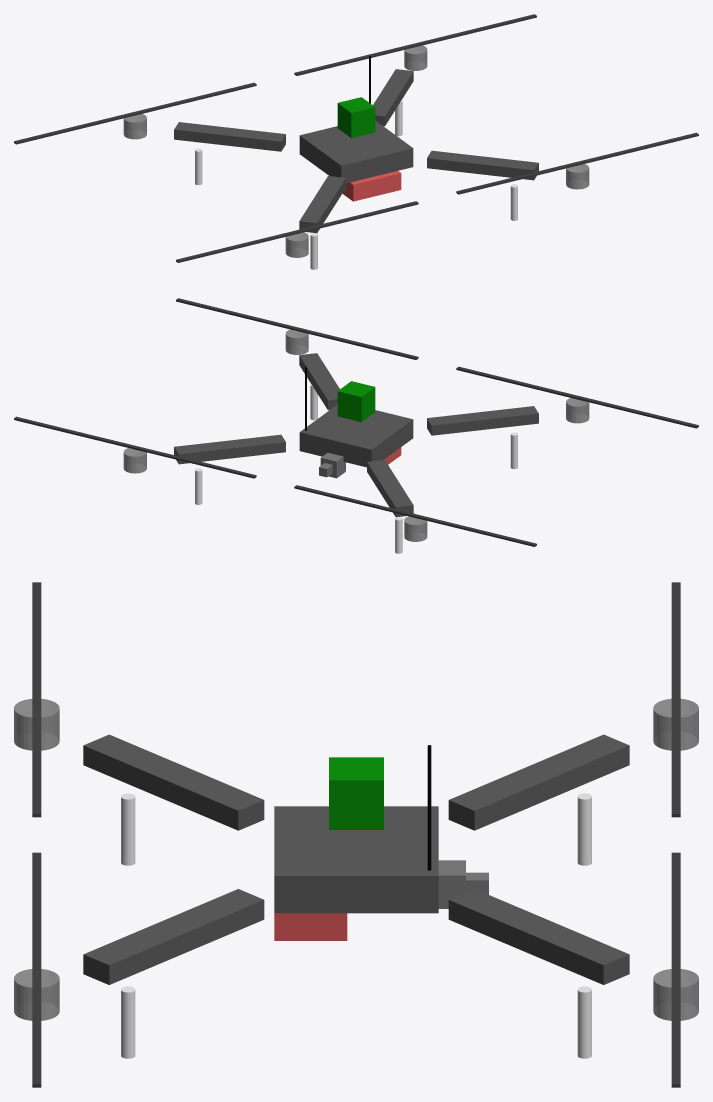
File: model_b2fce5f9-6068-4fa9-9036-326b170c6b3e.glb
3 views of the same model, one above another, from view 1: azimuth 30°, elevation 25°; view 2: azimuth 150°, elevation 25°; view 3: azimuth 270°, elevation 25° (orthographic). The views are drawn at different scales.
Visible parts, largest first — view 1: Frame_Center, Arm_2, Arm_4, Flight_Controller, Arm_3, Arm_1, Battery, Propeller_2, Propeller_3, Propeller_4, Propeller_1, Motor_1 (+3 smaller); view 2: Frame_Center, Arm_3, Arm_1, Flight_Controller, Arm_2, Arm_4, Propeller_3, Propeller_2, Propeller_4, Propeller_1, Motor_1, Motor_2 (+3 smaller); view 3: Frame_Center, Arm_1, Arm_4, Arm_2, Arm_3, Flight_Controller, Propeller_1, Propeller_2, Propeller_3, Propeller_4, Battery, Motor_1 (+8 smaller).
Boxes of the visible parts, x1,y1,x2,y2 form: Frame_Center: (299, 120, 413, 183); Arm_2: (174, 122, 285, 151); Arm_4: (427, 150, 538, 180); Flight_Controller: (337, 97, 375, 137); Arm_3: (299, 176, 345, 233); Arm_1: (373, 69, 413, 126); Battery: (342, 171, 401, 201); Propeller_2: (14, 82, 256, 144); Propeller_3: (176, 201, 418, 262); Propeller_4: (456, 132, 698, 194); Propeller_1: (294, 14, 536, 75); Motor_1: (404, 45, 427, 70); Frame_Center: (299, 404, 413, 467); Arm_3: (427, 406, 538, 435); Arm_1: (174, 434, 285, 464); Flight_Controller: (337, 381, 375, 421); Arm_2: (367, 460, 413, 517); Arm_4: (299, 353, 339, 410); Propeller_3: (456, 366, 698, 428); Propeller_2: (294, 485, 536, 546); Propeller_4: (176, 298, 418, 359); Propeller_1: (14, 416, 256, 478); Motor_1: (123, 448, 146, 473); Motor_2: (404, 516, 427, 541); Frame_Center: (274, 806, 438, 913); Arm_1: (448, 889, 629, 984); Arm_4: (83, 889, 264, 984); Arm_2: (448, 734, 629, 830); Arm_3: (83, 734, 264, 830); Flight_Controller: (329, 757, 383, 829); Propeller_1: (671, 852, 680, 1087); Propeller_2: (671, 582, 680, 817); Propeller_3: (32, 582, 41, 817); Propeller_4: (32, 852, 41, 1087); Battery: (274, 913, 347, 940); Motor_1: (653, 969, 698, 1020).
Size of the model in its own units: 1.3 by 0.295 by 0.75.
